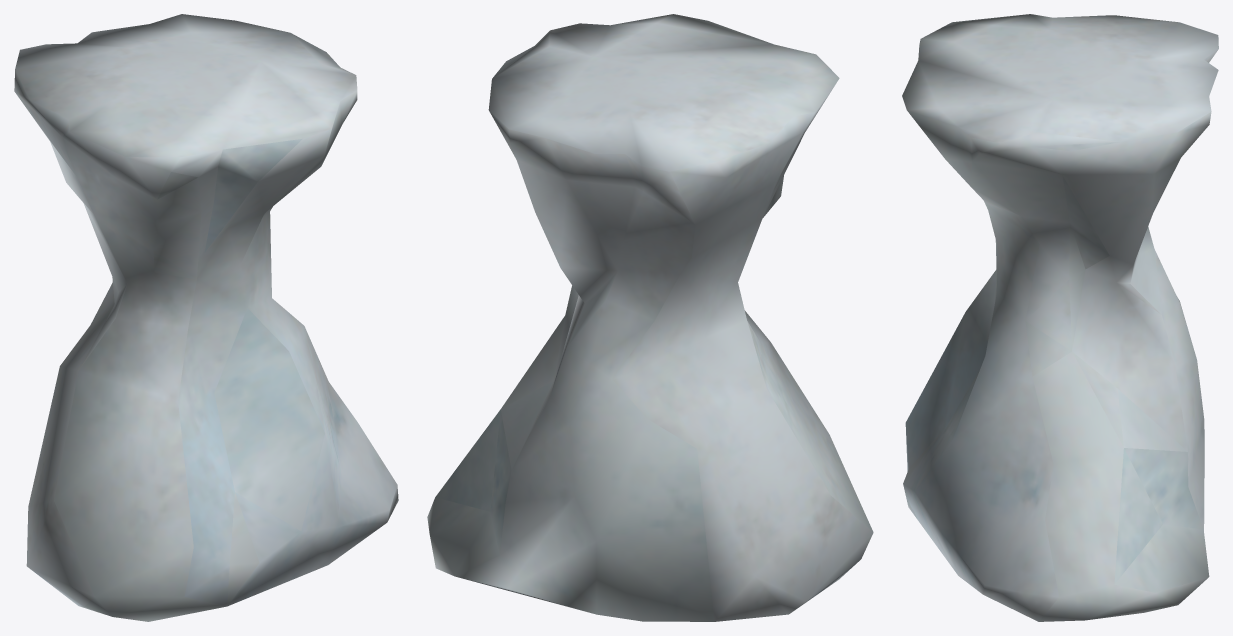
The model's file is P_PlatformClassic4.obj.
The picture shows the model from 3 angles, left to right: view 1: azimuth 30°, elevation 25°; view 2: azimuth 150°, elevation 25°; view 3: azimuth 270°, elevation 25°; orthographic projection. The views are drawn at different scales.
Bounding box in the file's own units: 7.7 × 10.05 × 6.09.
